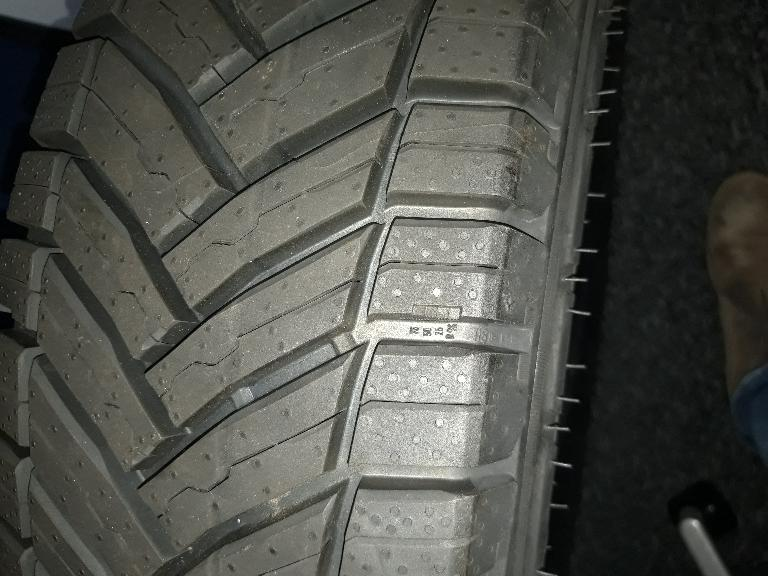temoin:100: (398, 303, 464, 323)
